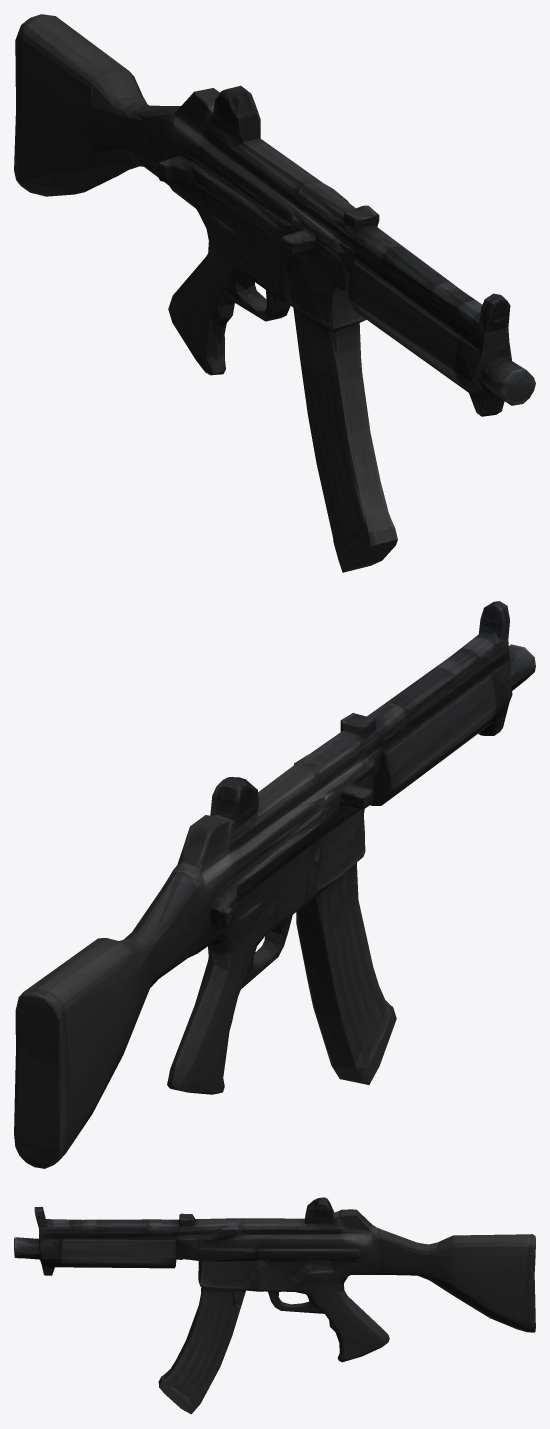
File: black_mp5-k.glb
3 views of the same model, one above another, from view 1: azimuth 30°, elevation 25°; view 2: azimuth 150°, elevation 25°; view 3: azimuth 270°, elevation 25° (orthographic). The views are drawn at different scales.
Visible parts, largest first — view 1: geometry_0; view 2: geometry_0; view 3: geometry_0.
Boxes of the visible parts, x1,y1,x2,y2 form: geometry_0: (14,14,535,572); geometry_0: (14,601,535,1168); geometry_0: (14,1197,535,1414).
Bounding box in the file's own units: 0.0798 × 0.447 × 1.
Materials: 1 (1 with a texture image).
